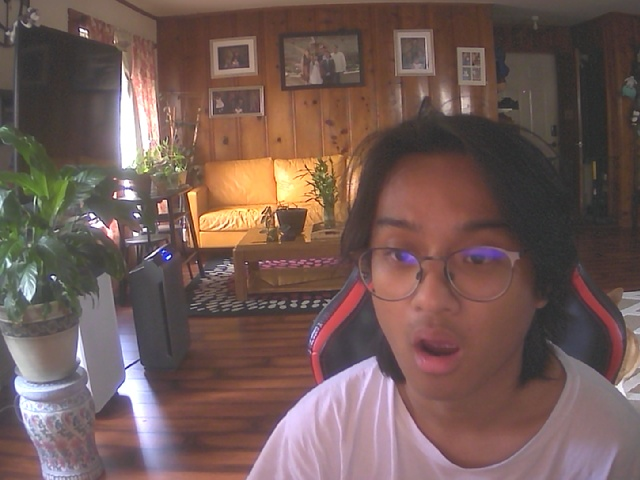fear: (349, 122, 560, 405)
